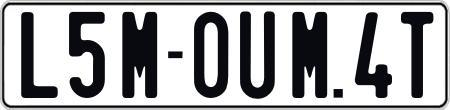0: (192, 12, 231, 101)
4: (355, 9, 395, 101)
5: (67, 12, 105, 103)
L: (19, 10, 56, 102)
M: (289, 11, 327, 97), (121, 11, 157, 97)
T: (401, 9, 434, 101)
U: (239, 10, 277, 100)
